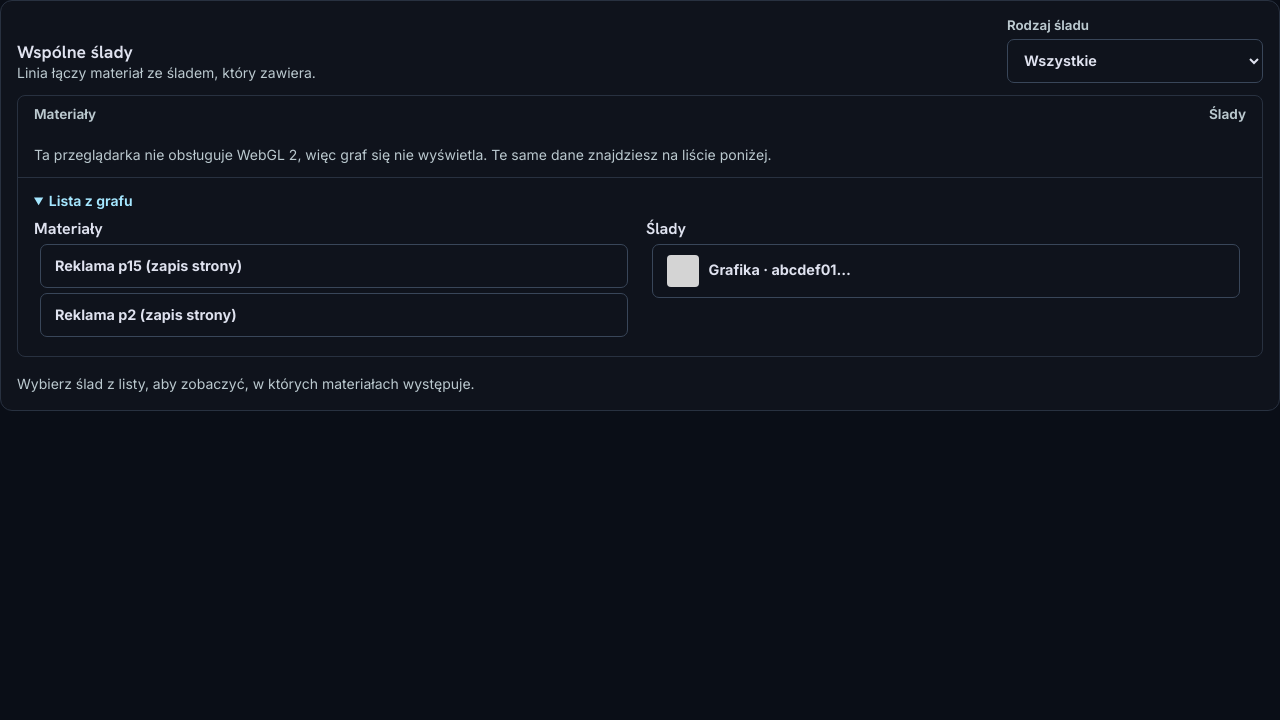
Scenario: wspólne ślady › pokazuje podgląd grafiki i miniaturę na liście
Click the button "Grafika · abcdef01…": (683, 271) [652,244,1240,298]
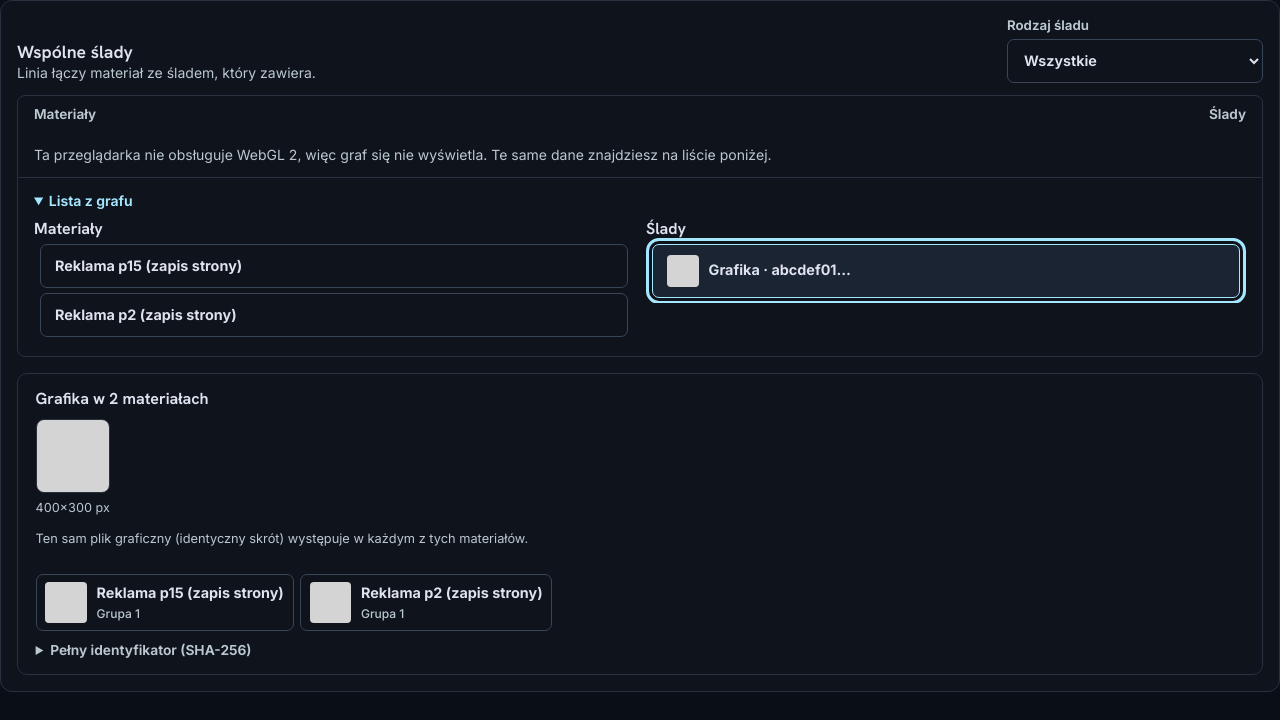
Expected: the text "400×300 px" is shown, [36,499,110,518]
